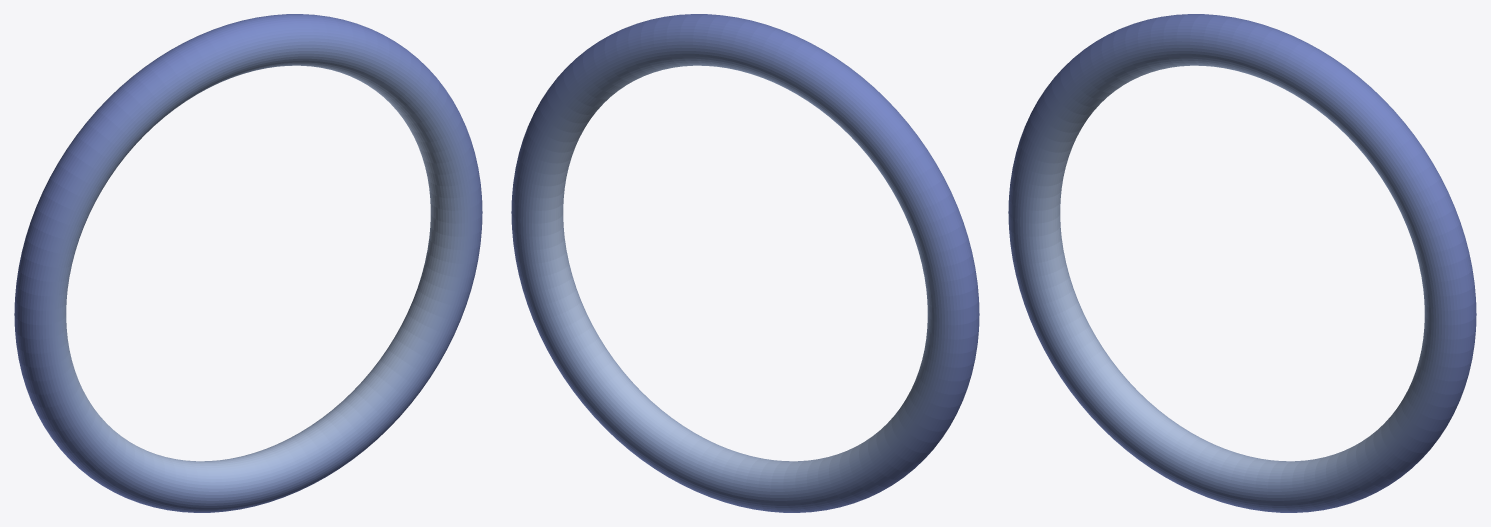
3 renders of one model, left to right at view 1: azimuth 30°, elevation 25°; view 2: azimuth 150°, elevation 25°; view 3: azimuth 330°, elevation 25°, orthographic.
Visible parts, largest first — view 1: world; view 2: world; view 3: world.
Part boxes in pixels (x1,y1,x2,y2): world: (14,14,482,512); world: (511,14,979,512); world: (1008,14,1476,512).
Bounding box in the file's own units: 28.8 × 28.8 × 2.79.
